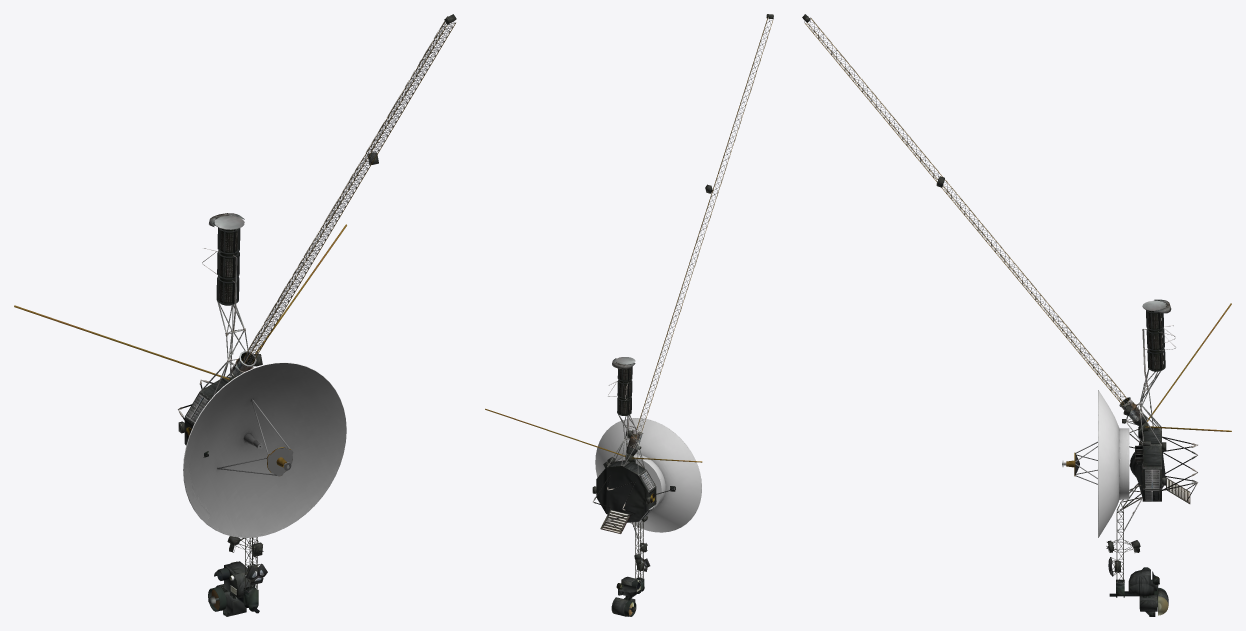
File: voyager.glb
3 renders of one model, left to right at view 1: azimuth 30°, elevation 25°; view 2: azimuth 150°, elevation 25°; view 3: azimuth 270°, elevation 25°, orthographic. The views are drawn at different scales.
Visible parts, largest first — view 1: tex_02_AO, tex_01; view 2: tex_01, tex_02_AO, tex_02_AO_dark; view 3: tex_01, tex_02_AO, tex_02_AO_dark.
Boxes of the visible parts, bbox=[...] form: tex_02_AO: bbox=[183, 362, 346, 537]; tex_01: bbox=[14, 14, 456, 616]; tex_01: bbox=[485, 14, 773, 616]; tex_02_AO: bbox=[595, 418, 701, 532]; tex_02_AO_dark: bbox=[618, 454, 665, 508]; tex_01: bbox=[802, 14, 1231, 616]; tex_02_AO: bbox=[1062, 390, 1119, 537]; tex_02_AO_dark: bbox=[1119, 428, 1129, 499].
Size of the model in its own units: 7.75 by 16.91 by 11.04.
Materials: 3 (3 with a texture image).
